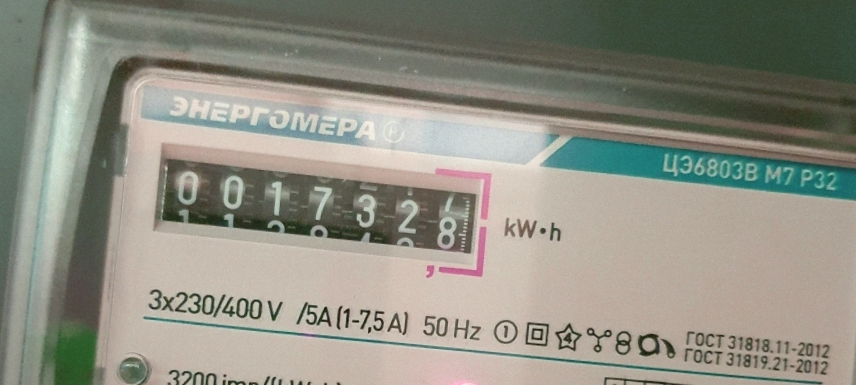0: (172, 166, 201, 208), (220, 171, 245, 211)
1: (264, 177, 285, 218)
2: (394, 196, 420, 235)
3: (353, 191, 378, 229)
7: (308, 182, 333, 223)
8: (434, 213, 456, 250)
screen: (139, 138, 502, 285)
